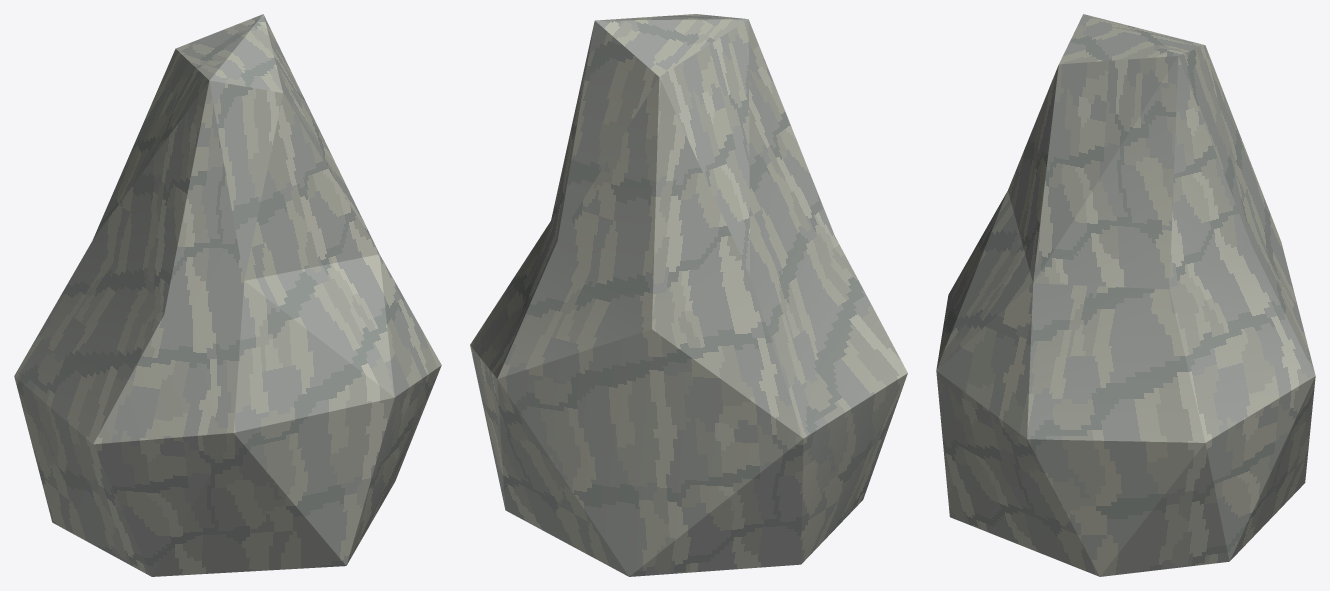
The model's file is 02f8_Garden_Rock.glb.
The picture shows the model from 3 angles, left to right: view 1: azimuth 30°, elevation 25°; view 2: azimuth 150°, elevation 25°; view 3: azimuth 270°, elevation 25°; orthographic projection. The views are drawn at different scales.
Parts seen in each view (by area): view 1: part_0; view 2: part_0; view 3: part_0.
Boxes of the visible parts, x1,y1,x2,y2 form: part_0: (14,14,441,576); part_0: (470,14,907,576); part_0: (936,14,1315,576).
Size of the model in its own units: 0.3206 by 0.4187 by 0.3017.
1 material, 1 textured.
